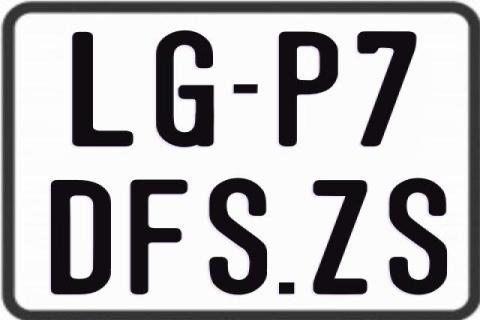0: (355, 29, 416, 150)
D: (48, 179, 111, 295)
F: (128, 178, 188, 294)
G: (156, 29, 220, 148)
L: (71, 32, 135, 146)
P: (276, 30, 339, 148)
S: (387, 178, 450, 298), (209, 178, 269, 298)
Z: (311, 180, 365, 296)
